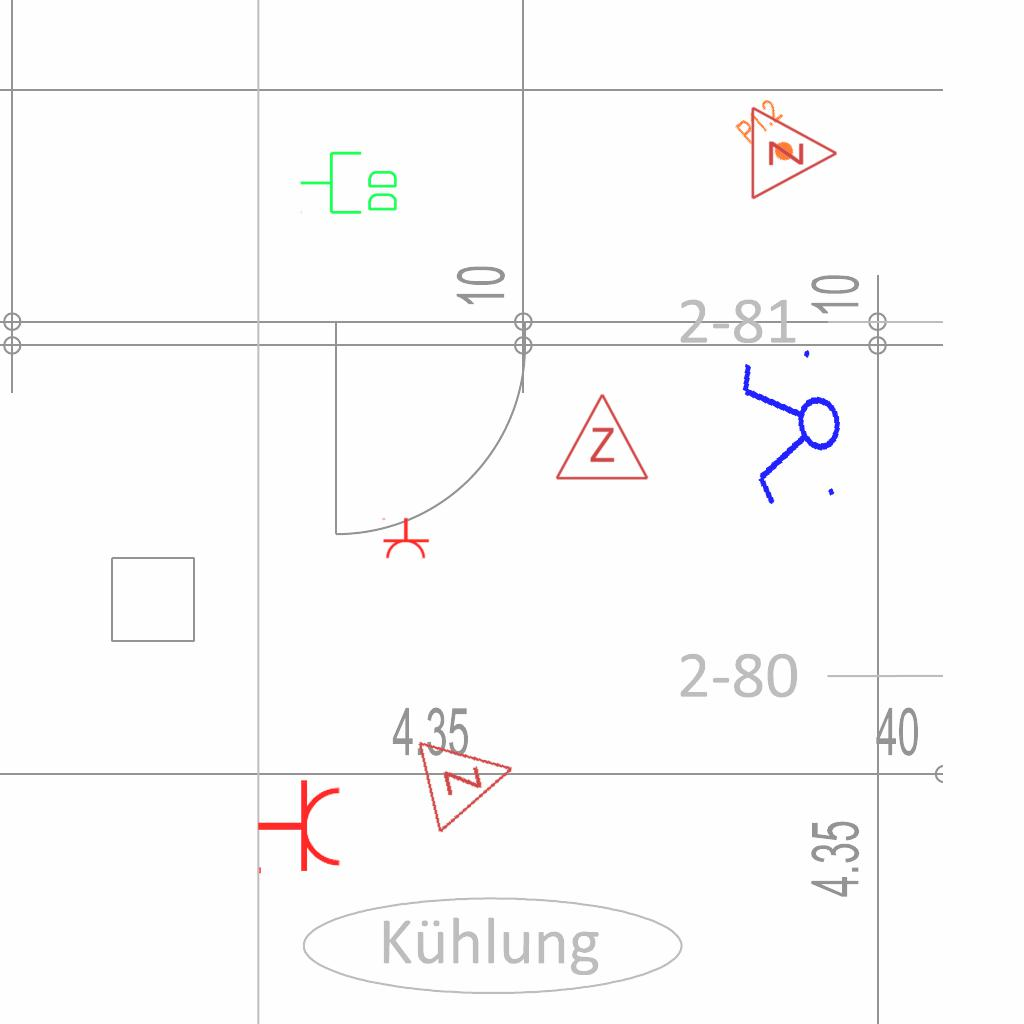Datenanschluss_zweifach: (298, 149, 401, 218)
Downlight_LED_Einbauleuchten_Flur: (732, 95, 810, 175)
Schukosteckdose_einfach: (256, 778, 343, 878), (380, 517, 430, 560)
Serienschalter: (732, 337, 856, 521)
Zimmersignalleuchte: (410, 718, 530, 836), (552, 387, 650, 487), (744, 103, 844, 201)
